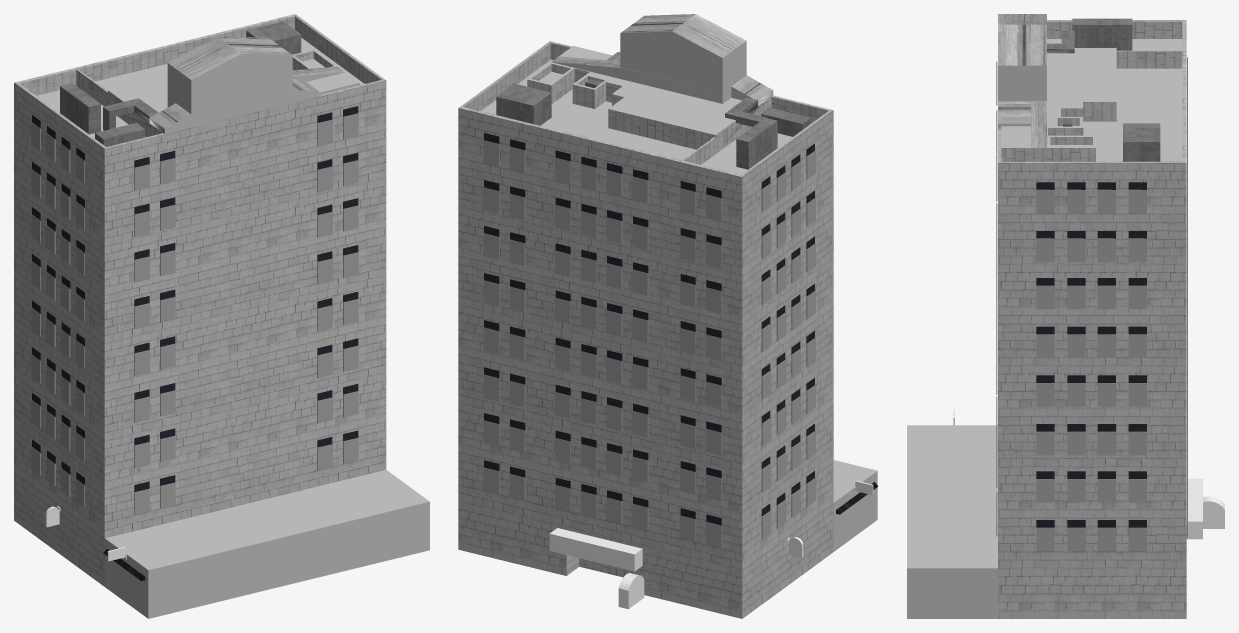
Rendered from 155 James St S, Hamilton, ON L8P 3A4.fbx.
3 renders of one model, left to right at view 1: azimuth 30°, elevation 25°; view 2: azimuth 150°, elevation 25°; view 3: azimuth 270°, elevation 25°, orthographic. The views are drawn at different scales.
Visible parts, largest first — view 1: SketchUp.160; view 2: SketchUp.160; view 3: SketchUp.160.
Part boxes in pixels (bbox=[...]): SketchUp.160: bbox=[14, 14, 429, 618]; SketchUp.160: bbox=[458, 14, 878, 618]; SketchUp.160: bbox=[907, 14, 1224, 618].
Size of the model in its own units: 2542 by 4048 by 2240.
